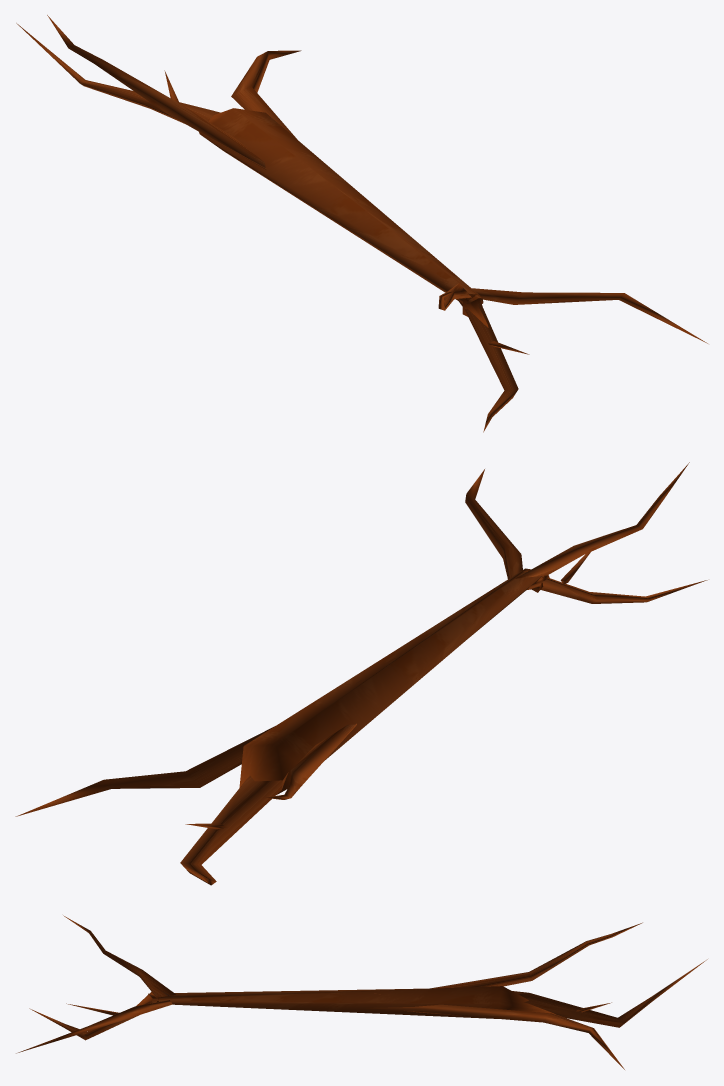
Rendered from log.dae.
3 renders of one model, top to bottom at view 1: azimuth 30°, elevation 25°; view 2: azimuth 150°, elevation 25°; view 3: azimuth 270°, elevation 25°, orthographic. The views are drawn at different scales.
Parts seen in each view (by area): view 1: polySurface1; view 2: polySurface1; view 3: polySurface1.
Boxes of the visible parts, x1,y1,x2,y2 form: polySurface1: (16,15,707,432); polySurface1: (15,462,707,885); polySurface1: (16,915,707,1069).
Bounding box in the file's own units: 72.99 × 39.22 × 247.
